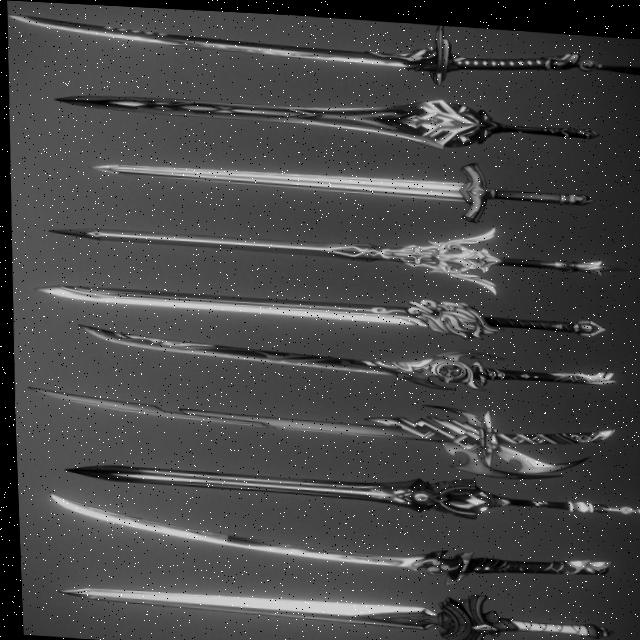knife: (34, 494, 607, 586), (48, 447, 621, 527), (54, 314, 627, 394), (33, 70, 606, 150), (25, 377, 598, 456), (29, 267, 602, 346), (39, 204, 612, 283), (58, 142, 631, 221), (5, 3, 576, 82), (42, 573, 614, 640)
